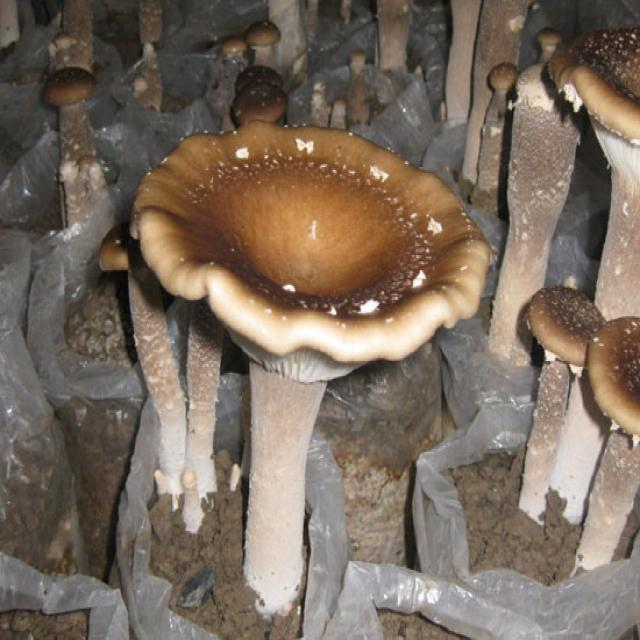Clitocybe maxima: (141, 131, 478, 599), (524, 281, 640, 583)
